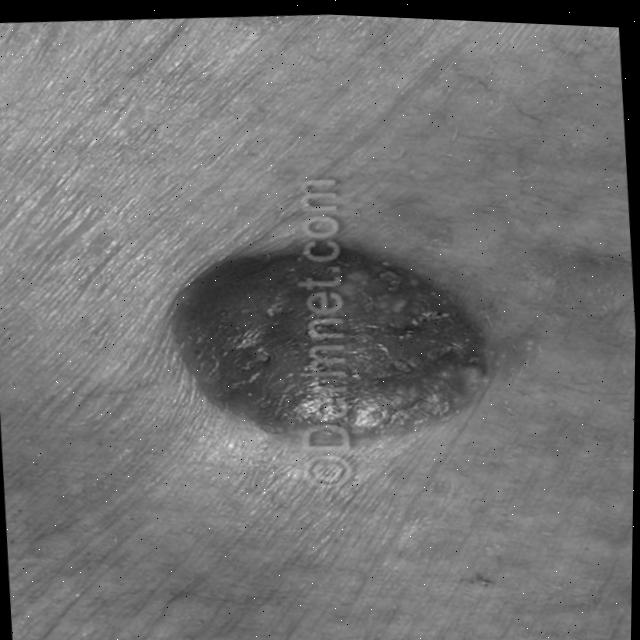Eczema: (193, 200, 490, 454)
